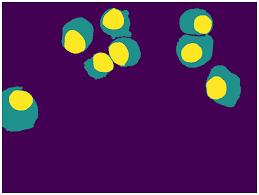cell: (2, 86, 41, 132), (205, 66, 242, 107), (177, 35, 213, 68), (62, 17, 94, 54), (100, 8, 132, 39), (108, 39, 141, 67), (181, 8, 215, 35), (85, 52, 115, 79)
